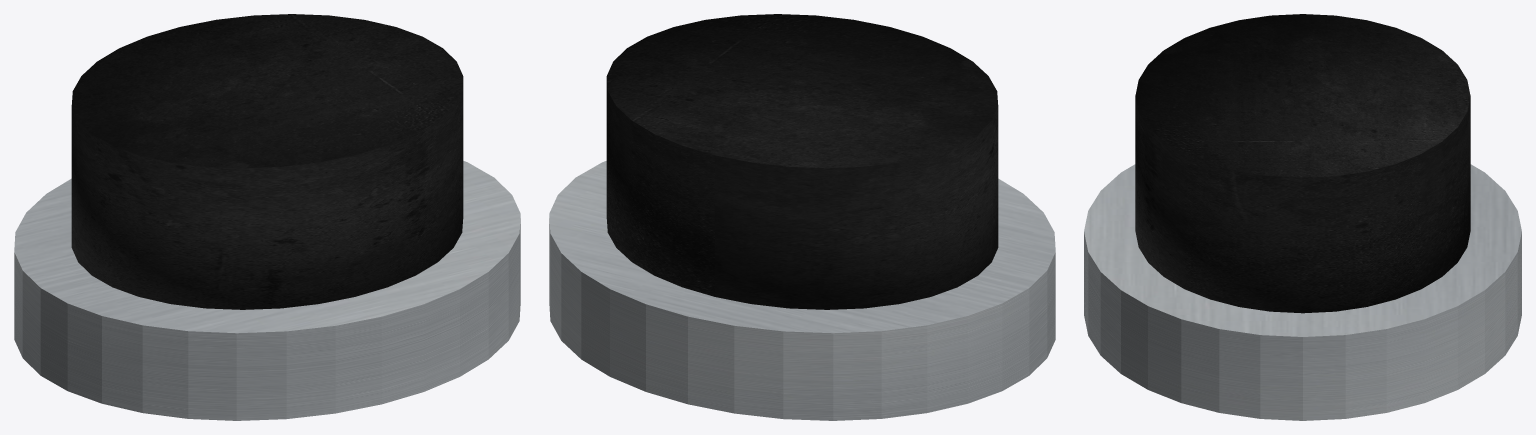
Rendered from BlackButton.fbx.
3 renders of one model, left to right at view 1: azimuth 30°, elevation 25°; view 2: azimuth 150°, elevation 25°; view 3: azimuth 270°, elevation 25°, orthographic. The views are drawn at different scales.
Visible parts, largest first — view 1: Cylinder, Cylinder.001; view 2: Cylinder, Cylinder.001; view 3: Cylinder, Cylinder.001.
Boxes of the visible parts, x1,y1,x2,y2 form: Cylinder: (71,14,463,309); Cylinder.001: (14,161,520,420); Cylinder: (606,14,998,309); Cylinder.001: (549,161,1055,420); Cylinder: (1135,14,1470,313); Cylinder.001: (1084,164,1521,420).
Bounding box in the file's own units: 4.7 × 2.27 × 4.11.
